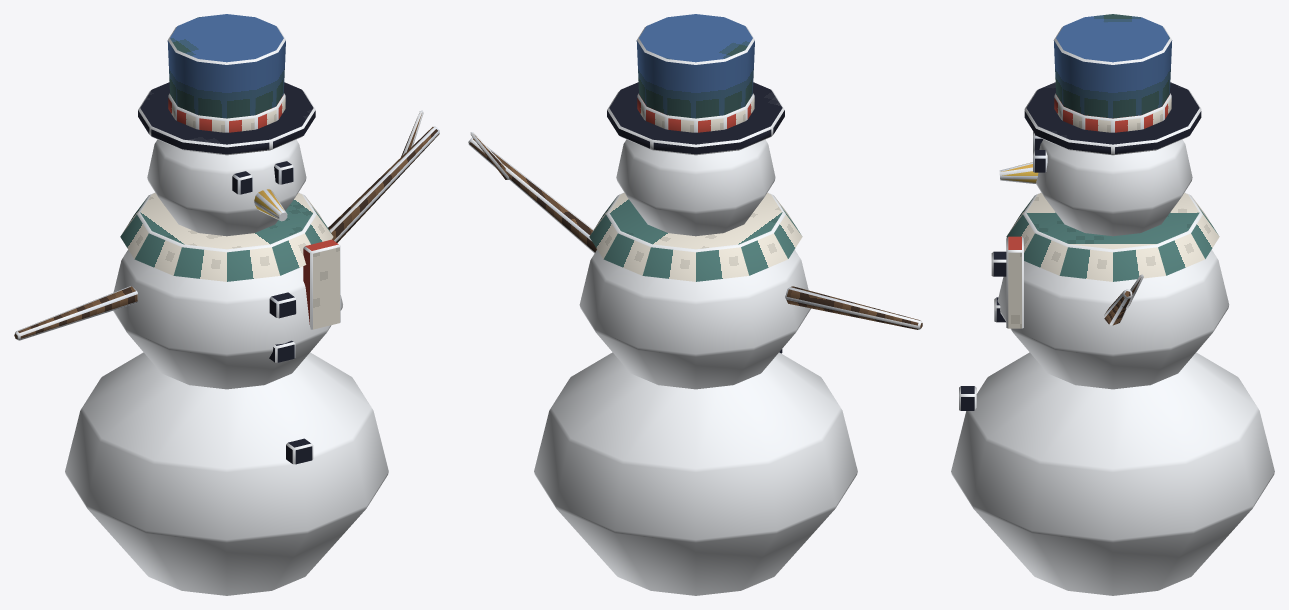
The model's file is spec_snowman_0.glb.
3 views of the same model, side by side, from view 1: azimuth 30°, elevation 25°; view 2: azimuth 150°, elevation 25°; view 3: azimuth 270°, elevation 25° (orthographic).
Visible parts, largest first — view 1: spec_snowman_0; view 2: spec_snowman_0; view 3: spec_snowman_0.
Part boxes in pixels (left/top/right/bottom): spec_snowman_0: left=14, top=14, right=439, bottom=595; spec_snowman_0: left=468, top=14, right=922, bottom=595; spec_snowman_0: left=951, top=14, right=1274, bottom=595.
Bounding box in the file's own units: 1.71 × 1.94 × 1.09.
7 materials, 7 textured.
